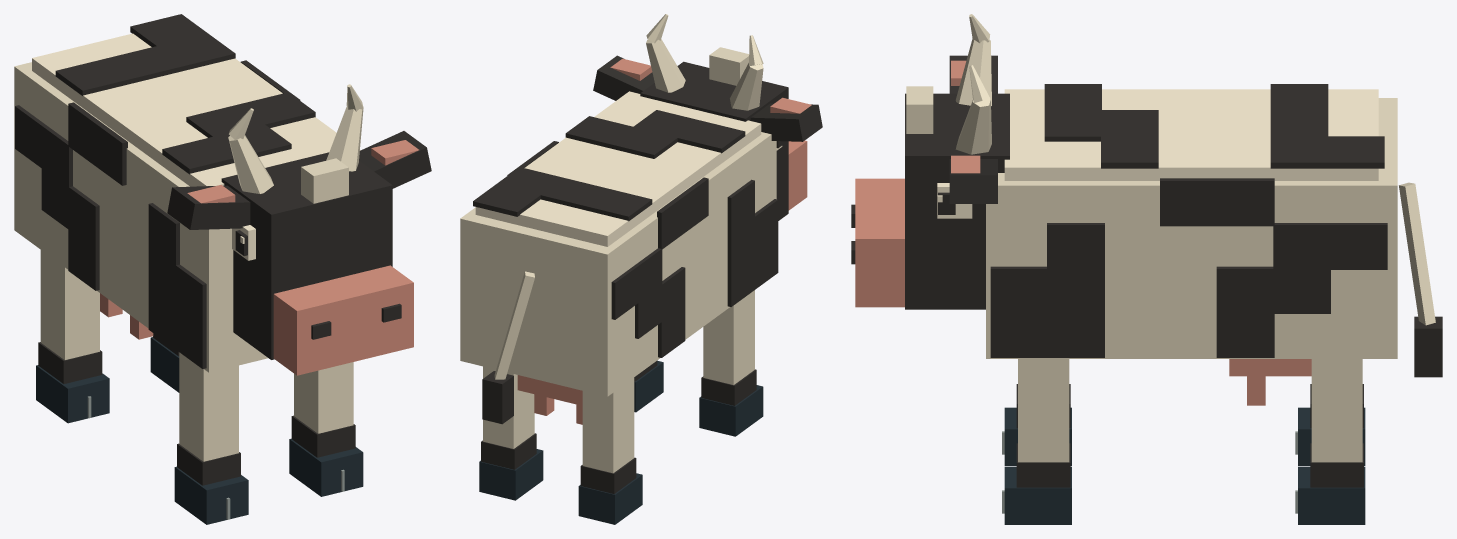
File: cow.glb
3 views of the same model, side by side, from view 1: azimuth 30°, elevation 25°; view 2: azimuth 150°, elevation 25°; view 3: azimuth 270°, elevation 25° (orthographic). The views are drawn at different scales.
Visible parts, largest first — view 1: body__black.001, head__black.001, body__cream.006, body__white.001, head__pink, head__cream, leg_front_left__cream, leg_rear_left__cream, leg_front_right__cream, leg_front_right__dark, leg_front_left__dark, leg_rear_left__dark (+6 smaller); view 2: body__cream.006, body__black.001, body__white.001, head__black.001, head__cream, leg_rear_left__cream, leg_front_left__cream, head__pink, leg_front_left__dark, leg_rear_right__dark, leg_rear_left__dark, leg_rear_right__cream (+7 smaller); view 3: body__black.001, body__cream.006, body__white.001, head__black.001, head__pink, leg_front_right__cream, leg_rear_right__cream, head__cream, leg_front_right__dark, leg_rear_right__dark, tail__cream, body__pink (+5 smaller).
Boxes of the visible parts, x1,y1,x2,y2 form: body__black.001: (15, 14, 315, 368); head__black.001: (167, 131, 431, 359); body__cream.006: (14, 62, 268, 372); body__white.001: (32, 33, 360, 186); head__pink: (187, 140, 418, 375); head__cream: (228, 84, 363, 203); leg_front_left__cream: (179, 352, 238, 461); leg_rear_left__cream: (40, 250, 99, 359); leg_front_right__cream: (294, 362, 353, 433); leg_front_right__dark: (289, 438, 363, 496); leg_front_left__dark: (174, 466, 248, 524); leg_rear_left__dark: (36, 365, 109, 423); body__cream.006: (460, 132, 776, 396); body__black.001: (473, 110, 778, 357); body__white.001: (475, 91, 761, 246); head__black.001: (593, 55, 822, 220); head__cream: (646, 14, 763, 110); leg_rear_left__cream: (582, 377, 634, 473); leg_front_left__cream: (703, 290, 754, 384); head__pink: (610, 58, 811, 210); leg_front_left__dark: (699, 385, 763, 436); leg_rear_right__dark: (479, 449, 543, 500); leg_rear_left__dark: (578, 473, 642, 524); leg_rear_right__cream: (483, 366, 534, 448); body__black.001: (990, 84, 1387, 357); body__cream.006: (986, 98, 1397, 358); body__white.001: (1004, 89, 1378, 180); head__black.001: (851, 55, 1009, 309); head__pink: (855, 60, 980, 307); leg_front_right__cream: (1018, 359, 1069, 462); leg_rear_right__cream: (1311, 359, 1362, 462); head__cream: (906, 14, 991, 154); leg_front_right__dark: (1004, 466, 1071, 524); leg_rear_right__dark: (1298, 466, 1365, 524); tail__cream: (1399, 182, 1435, 325); body__pink: (1229, 359, 1311, 405).
Bounding box in the file's own units: 1.1 × 1.82 × 2.2.
